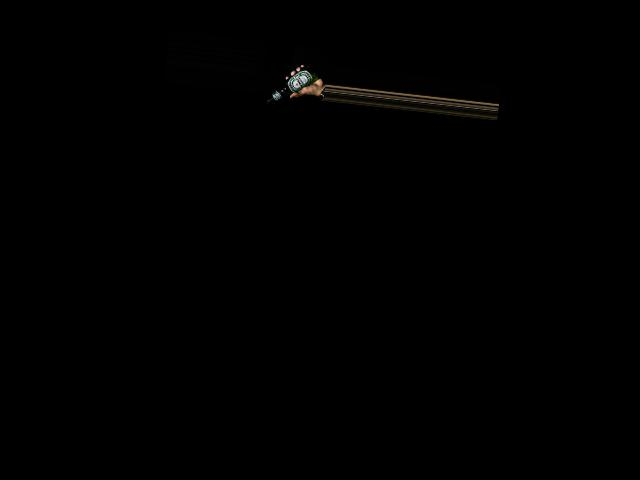beer: (264, 60, 321, 110)
